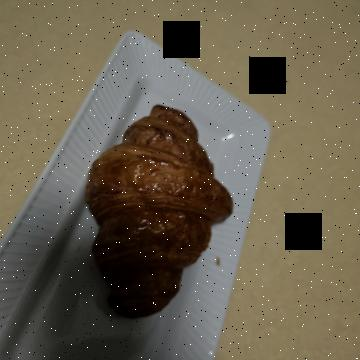croissant: (94, 106, 330, 275)
